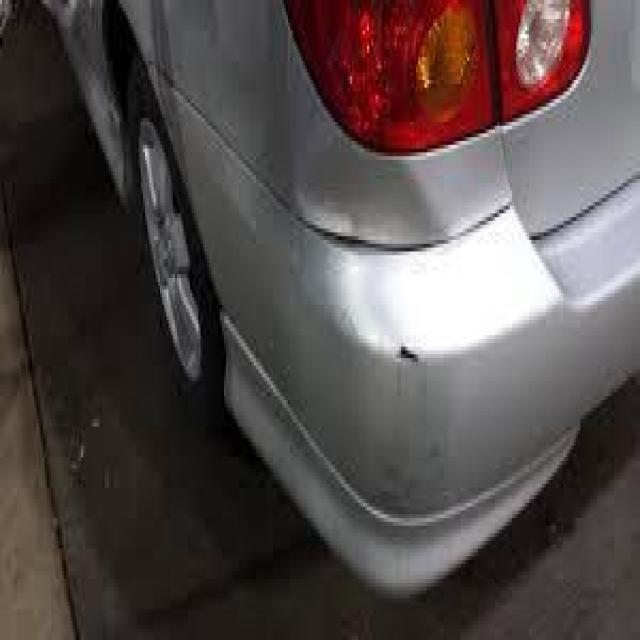damaged: (300, 156, 452, 259), (390, 339, 427, 377)
